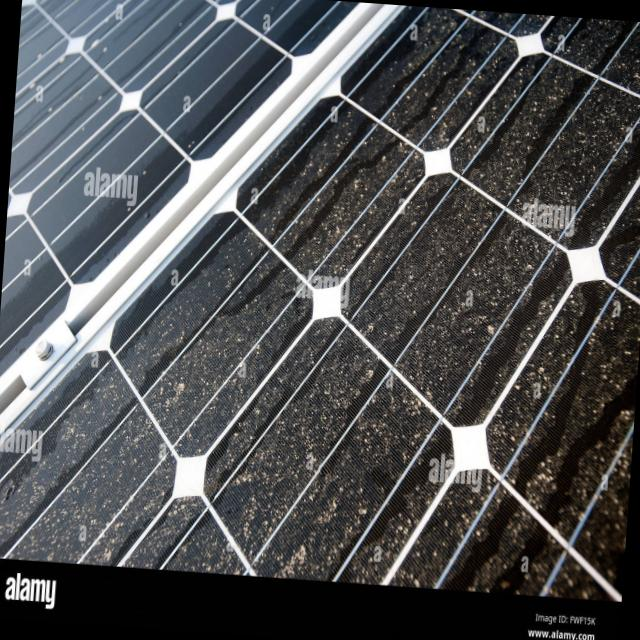faulty: (0, 8, 640, 599)
no faulty: (0, 0, 315, 349)
